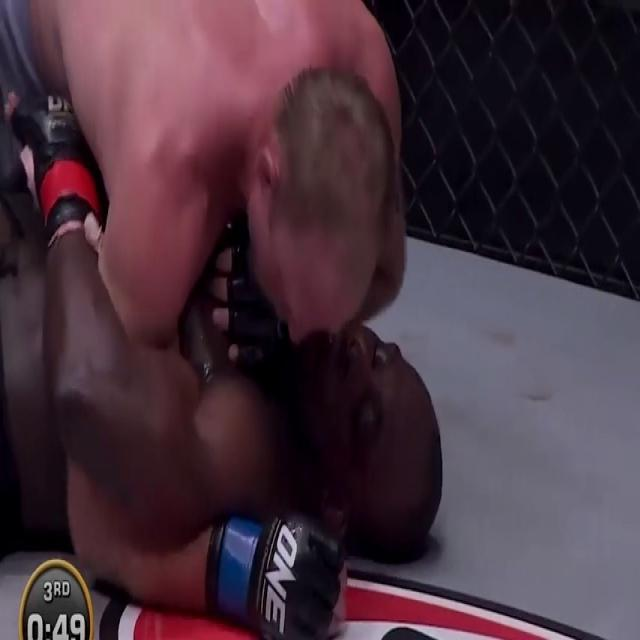fight: (1, 0, 448, 639)
